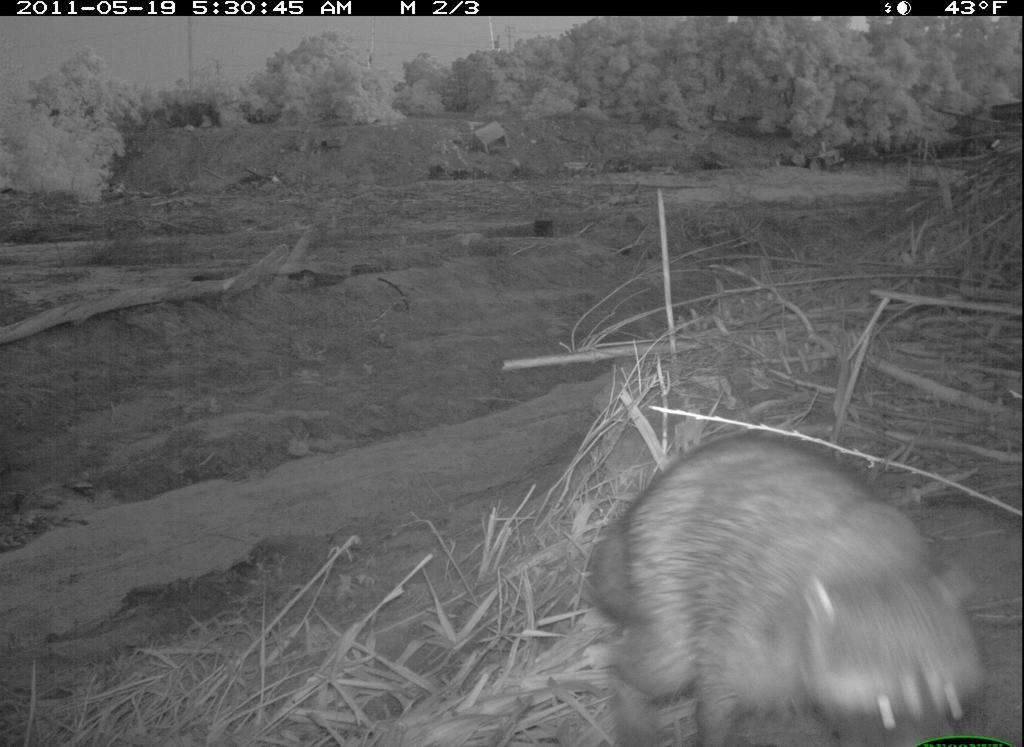rabbit: (571, 429, 1001, 747)
